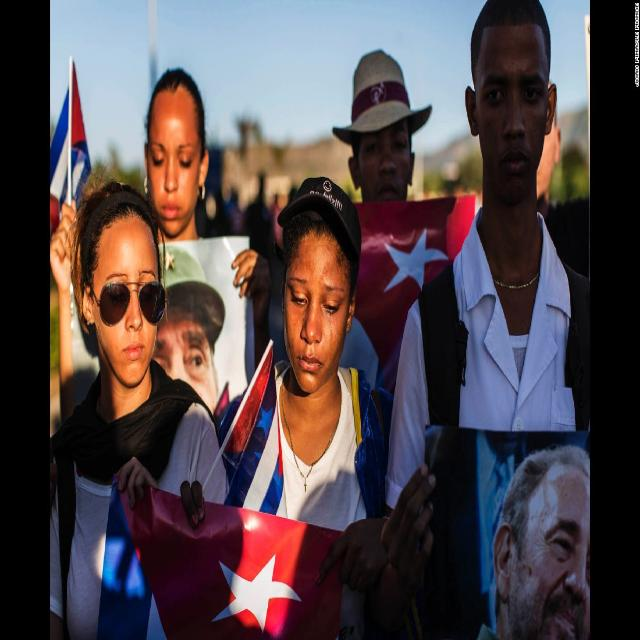body: (377, 0, 593, 640), (39, 170, 216, 639), (48, 65, 260, 428), (222, 168, 393, 532), (486, 444, 610, 639), (329, 45, 434, 208), (151, 246, 226, 417), (226, 169, 278, 246), (533, 115, 568, 202)
